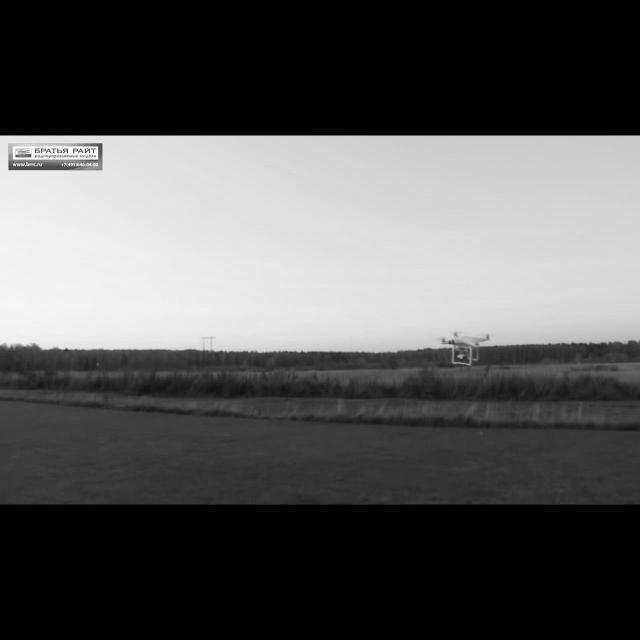Drons: (438, 329, 494, 367)
